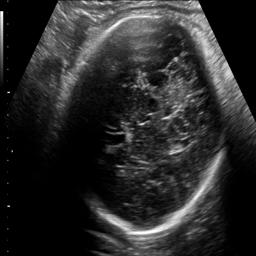normal: (53, 11, 230, 238)
